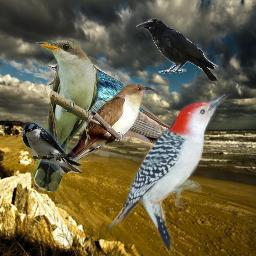Crow: (136, 18, 218, 82)
Cuckoo: (33, 40, 100, 192), (57, 82, 155, 176)
Swallow: (45, 52, 202, 162), (22, 123, 82, 173)
Woodpecker: (106, 94, 231, 256)
